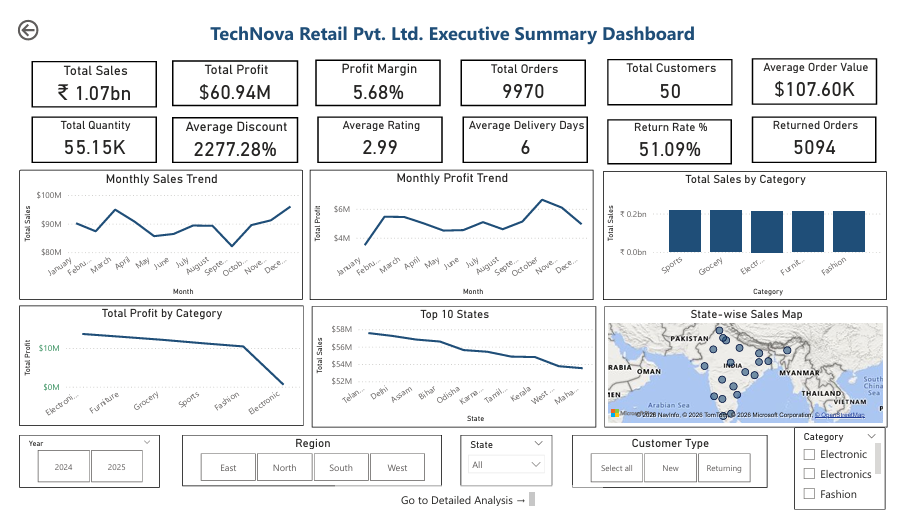

The page's visual inventory and layout, read from the dashboard file:
{"tool":"powerbi","page":{"name":"Executive Summary","canvas":[1280,720],"ordinal":1},"visuals":[{"type":"textbox","box":[10.6,0,278.4,61.6],"z":0},{"type":"textbox","box":[0,0,1279.2,46.7],"z":1000},{"type":"card","title":"Total Sales","fields":{"Values":["Measures (2).Total Sales"]},"box":[25,65,183.3,68.3],"z":2000},{"type":"card","title":"Total Customers","fields":{"Values":["Measures_Values.Total Customers"]},"box":[864.8,61.6,182.7,68],"z":3000},{"type":"card","title":"Average Order Value","fields":{"Values":["Measures_Values.Average Order Value"]},"box":[1075.8,61.4,182.7,68],"z":4000},{"type":"card","title":"Total Quantity","fields":{"Values":["Measures_Values.Total Quantity"]},"box":[25.3,146.4,182.7,68],"z":5000},{"type":"card","title":"Total Profit","fields":{"Values":["Measures_Values.Total Profit"]},"box":[230.1,64.4,184,66.7],"z":6000},{"type":"card","title":"Average Rating","fields":{"Values":["Measures_Values.Average Rating"]},"box":[441.8,146.4,182.7,68],"z":7000},{"type":"card","title":"Average Delivery Days","fields":{"Values":["Measures_Values.Average Delivery Days"]},"box":[654.3,146.4,182.7,68],"z":8000},{"type":"card","title":"Return Rate %","fields":{"Values":["Measures_Values.Return Rate %"]},"box":[865,149.5,181.7,66.7],"z":9000},{"type":"card","title":"Returned Orders","fields":{"Values":["Measures_Values.Returned Orders"]},"box":[1075.6,146.2,182.7,68],"z":10000},{"type":"card","title":"Profit Margin ","fields":{"Values":["Measures_Values.Profit Margin %"]},"box":[438.9,62.6,182.7,68],"z":11000},{"type":"card","title":"Total Orders","fields":{"Values":["Measures_Values.Total Orders"]},"box":[651.4,62.6,182.7,68],"z":12000},{"type":"card","title":"Average Discount","fields":{"Values":["Measures_Values.Average Discount"]},"box":[230.1,147.2,184,66.7],"z":13000},{"type":"lineChart","title":"Monthly Sales Trend","fields":{"Category":["Date Table.Month"],"Y":["Measures_Values.Total Sales"]},"box":[7.4,222.9,413.5,177.1],"z":14000},{"type":"lineChart","title":"Total Profit by Category","fields":{"Category":["Business Intelligence Case Study Dataset.Category"],"Y":["Measures_Values.Total Profit"]},"box":[6.7,421.7,415,176.7],"z":15000},{"type":"lineChart","title":"Monthly Sales Trend","fields":{"Category":["Date Table.Month"],"Y":["Measures_Values.Total Sales"]},"box":[7.4,224.1,413.5,189.4],"z":16000},{"type":"lineChart","title":"Monthly Profit Trend","fields":{"Category":["Date Table.Month"],"Y":["Measures_Values.Total Profit"]},"box":[431.1,224.3,413.5,189.2],"z":17000},{"type":"lineChart","title":"Top 10 States","fields":{"Y":["Measures_Values.Total Sales"],"Category":["Business Intelligence Case Study Dataset.State"]},"box":[433.8,423,414.9,177],"z":18000},{"type":"clusteredColumnChart","fields":{"Category":["Business Intelligence Case Study Dataset.Category"],"Y":["Measures_Values.Total Sales"]},"box":[859.5,225.7,413.5,187.8],"z":19000},{"type":"actionButton","box":[0,0,100,40],"z":20000},{"type":"map","title":"State-wise Sales Map","fields":{"Category":["Business Intelligence Case Study Dataset.State"],"Size":["Measures_Values.Total Sales"]},"box":[860.8,423,413.5,177],"z":21000},{"type":"slicer","fields":{"Values":["Date Table.Year"]},"box":[6.8,610.8,205.4,77],"z":22000},{"type":"slicer","title":"Region ","fields":{"Values":["Business Intelligence Case Study Dataset.Region"]},"box":[244.6,610.8,379.7,75.7],"z":23000},{"type":"slicer","fields":{"Values":["Business Intelligence Case Study Dataset.State"]},"box":[651.4,610.8,133.8,75.7],"z":24000},{"type":"slicer","fields":{"Values":["Business Intelligence Case Study Dataset.Category"]},"box":[1137.8,600,133.3,120],"z":25000},{"type":"slicer","title":"Customer Type","fields":{"Values":["Business Intelligence Case Study Dataset.Customer_Type"]},"box":[813.5,610.8,285.1,77],"z":26000},{"type":"actionButton","box":[469.1,685.3,391.2,35.3],"z":27000},{"type":"textbox","box":[553.2,689.6,211.7,29.9],"z":28000}]}

Visuals, with their boxes in screenshot pixels (x1, y1, x2, y2), scaled from the page's 1280x720 canvas onto the 906x522 screenshot:
textbox: (8,0,205,45)
textbox: (0,0,905,34)
"Total Sales" card: (18,47,147,97)
"Total Customers" card: (612,45,741,94)
"Average Order Value" card: (761,45,891,94)
"Total Quantity" card: (18,106,147,155)
"Total Profit" card: (163,47,293,95)
"Average Rating" card: (313,106,442,155)
"Average Delivery Days" card: (463,106,592,155)
"Return Rate %" card: (612,108,741,157)
"Returned Orders" card: (761,106,891,155)
"Profit Margin " card: (311,45,440,95)
"Total Orders" card: (461,45,590,95)
"Average Discount" card: (163,107,293,155)
"Monthly Sales Trend" lineChart: (5,162,298,290)
"Total Profit by Category" lineChart: (5,306,298,434)
"Monthly Sales Trend" lineChart: (5,162,298,300)
"Monthly Profit Trend" lineChart: (305,163,598,300)
"Top 10 States" lineChart: (307,307,601,435)
clusteredColumnChart - Business Intelligence Case Study Dataset.Category x Measures_Values.Total Sales: (608,164,901,300)
actionButton: (0,0,71,29)
"State-wise Sales Map" map: (609,307,902,435)
slicer - Date Table.Year: (5,443,150,499)
"Region " slicer: (173,443,442,498)
slicer - Business Intelligence Case Study Dataset.State: (461,443,556,498)
slicer - Business Intelligence Case Study Dataset.Category: (805,435,900,521)
"Customer Type" slicer: (576,443,778,499)
actionButton: (332,497,609,521)
textbox: (392,500,541,521)
